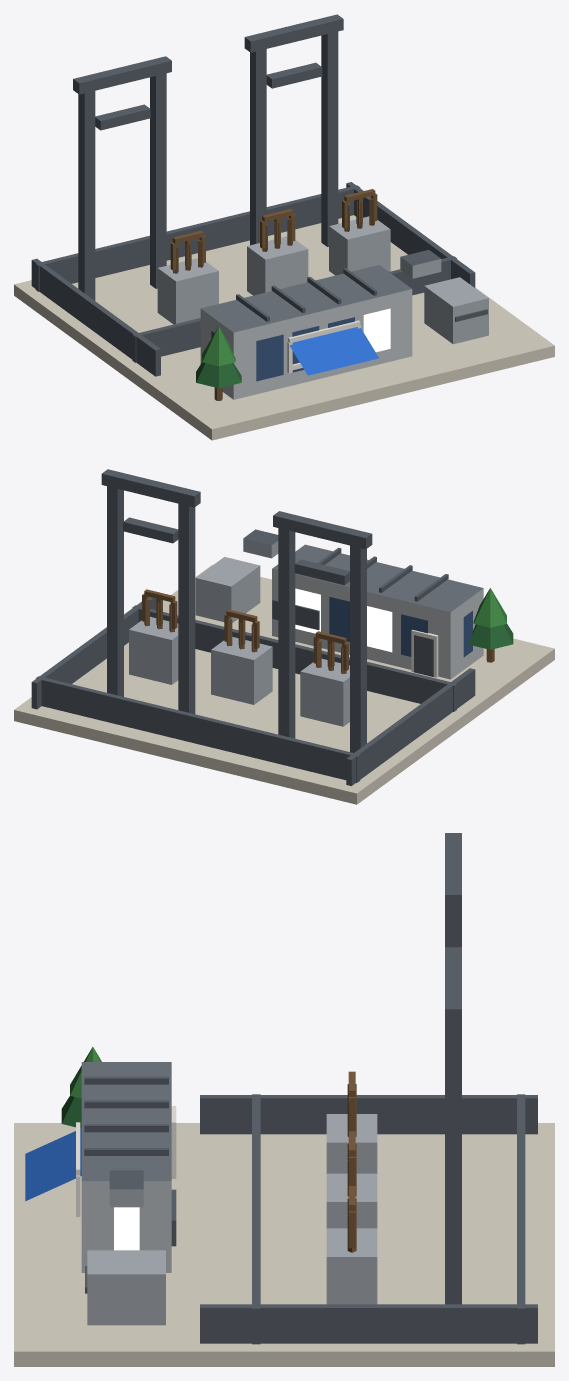
3 renders of one model, top to bottom at view 1: azimuth 30°, elevation 25°; view 2: azimuth 150°, elevation 25°; view 3: azimuth 270°, elevation 25°, orthographic. The views are drawn at different scales.
Visible parts, largest first — view 1: b35; view 2: b35; view 3: b35.
Boxes of the visible parts, x1,y1,x2,y2 form: b35: (14, 14, 554, 440); b35: (14, 469, 554, 804); b35: (14, 833, 554, 1366).
Size of the model in its own units: 0.96 by 0.63 by 0.96.
